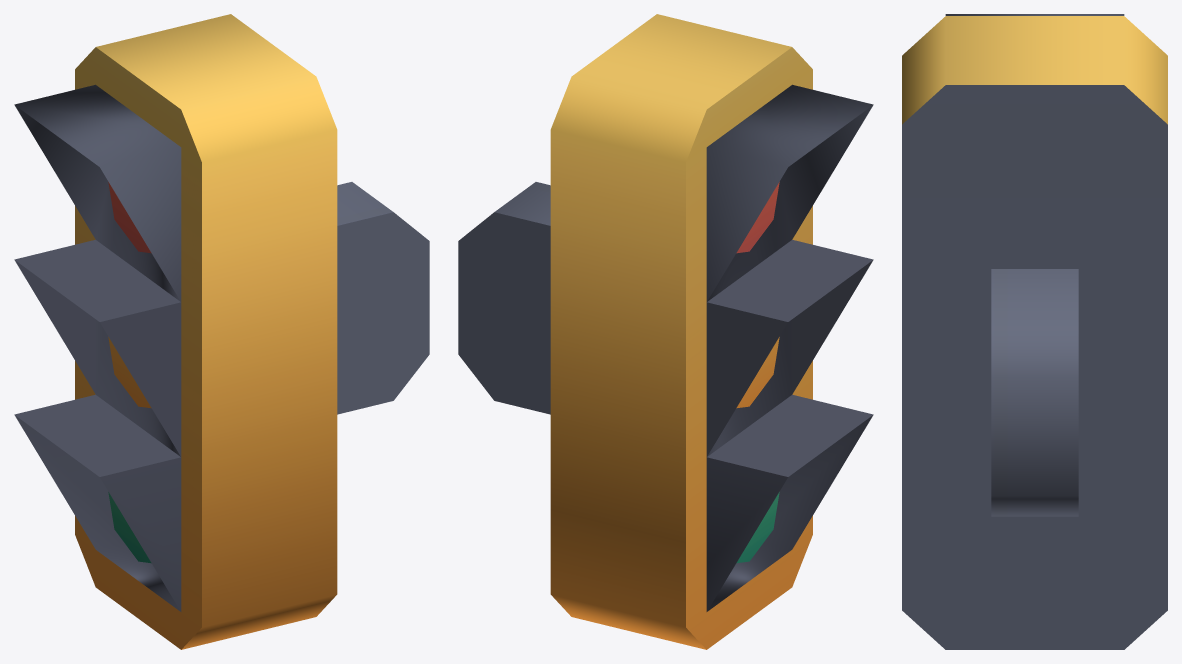
The model's file is traffic-light-object-hanging.glb.
3 views of the same model, side by side, from view 1: azimuth 30°, elevation 25°; view 2: azimuth 150°, elevation 25°; view 3: azimuth 270°, elevation 25° (orthographic). The views are drawn at different scales.
Visible parts, largest first — view 1: traffic-light-object-hanging; view 2: traffic-light-object-hanging; view 3: traffic-light-object-hanging.
Part boxes in pixels (box(x1,y1,x2,y2)): traffic-light-object-hanging: box(14, 14, 429, 649); traffic-light-object-hanging: box(458, 14, 873, 649); traffic-light-object-hanging: box(902, 14, 1167, 649).
Bounding box in the file's own units: 0.0976 × 0.1432 × 0.0611.
1 material, 1 textured.
